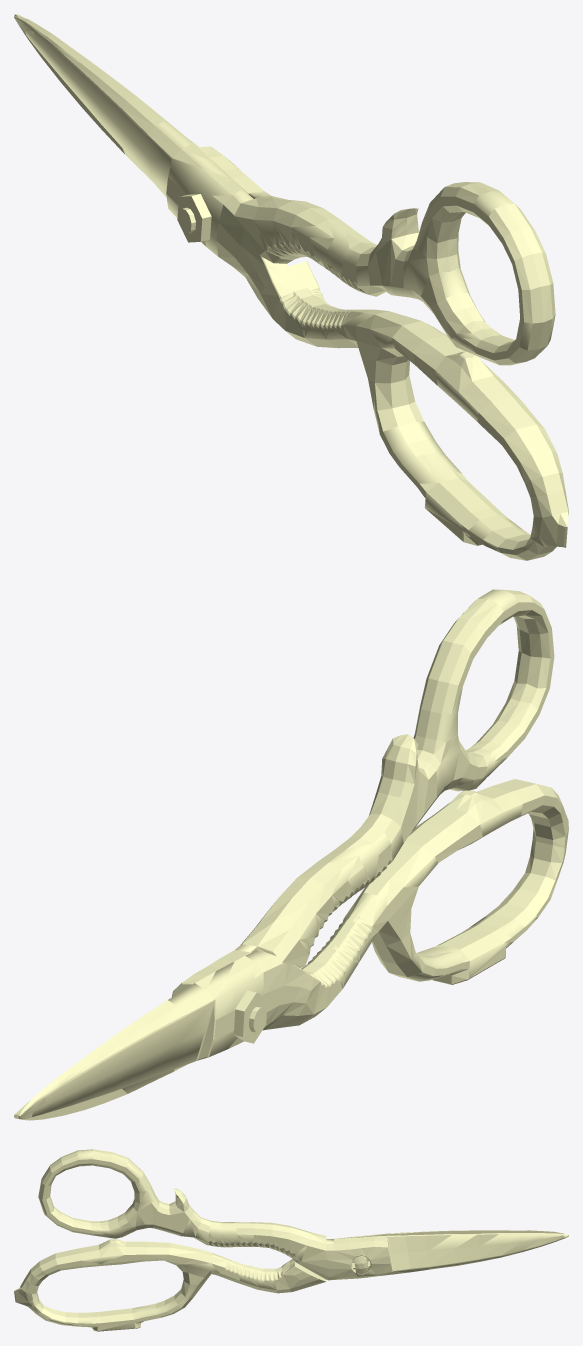
The model's file is scissors2_3.dae.
3 renders of one model, top to bottom at view 1: azimuth 30°, elevation 25°; view 2: azimuth 150°, elevation 25°; view 3: azimuth 270°, elevation 25°, orthographic. The views are drawn at different scales.
Visible parts, largest first — view 1: M004947_019; view 2: M004947_019; view 3: M004947_019.
Part boxes in pixels (x1,y1,x2,y2): M004947_019: [14, 14, 568, 560]; M004947_019: [14, 589, 568, 1120]; M004947_019: [14, 1149, 568, 1331].
Size of the model in its own units: 0.0176 by 0.253 by 0.0896.
